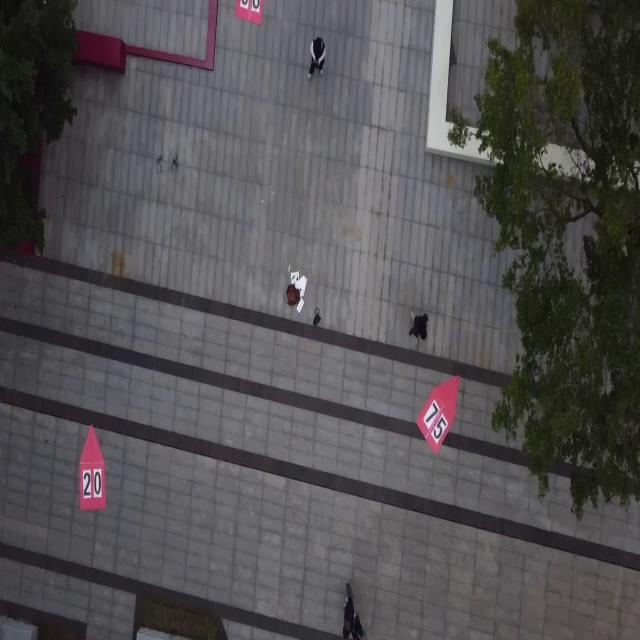-sign-: (417, 375, 461, 456), (78, 423, 106, 512), (236, 1, 262, 27)
